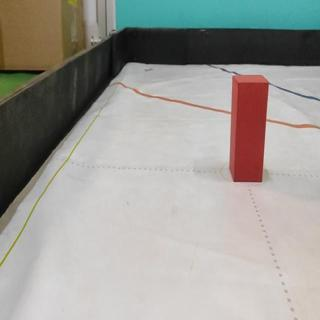redbox: (230, 75, 269, 183)
